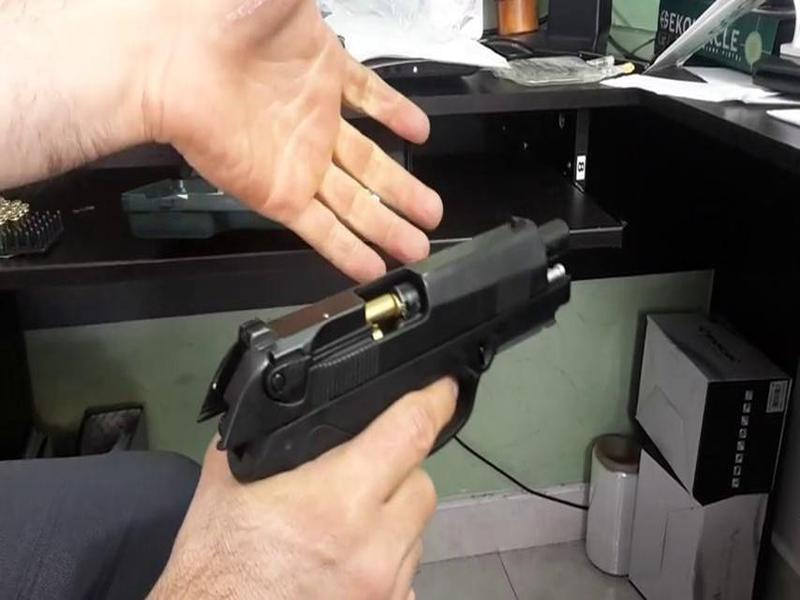Pistola: (197, 202, 555, 510)
